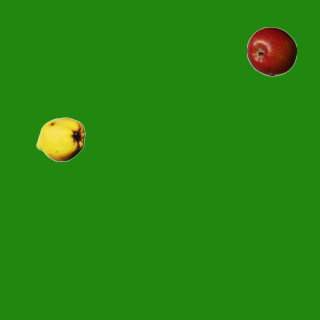Apple Braeburn: (246, 26, 296, 76)
Quince: (35, 114, 85, 164)
